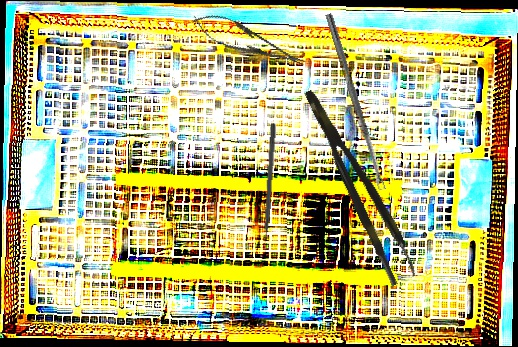Needle Holder: (187, 5, 311, 78)
Pusher: (260, 122, 277, 253)
Surgical Spoon: (324, 12, 386, 192)
Tissue Forceps: (301, 81, 420, 287)
